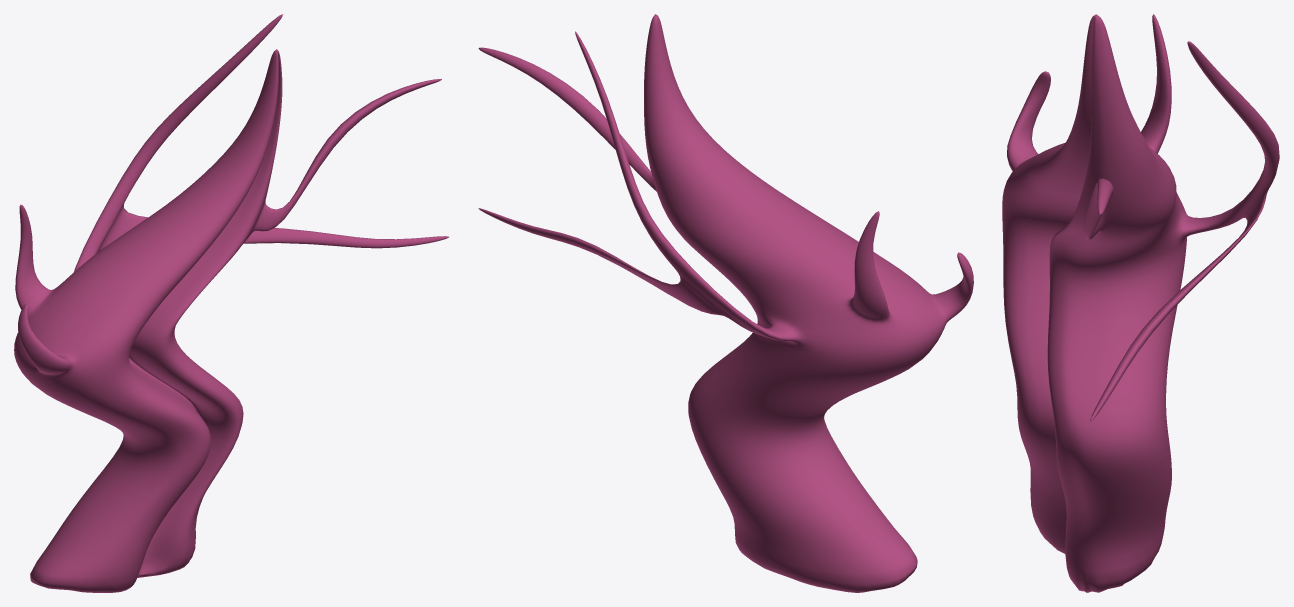
Rendered from compact-v01.glb.
The picture shows the model from 3 angles, left to right: view 1: azimuth 30°, elevation 25°; view 2: azimuth 150°, elevation 25°; view 3: azimuth 270°, elevation 25°; orthographic projection. The views are drawn at different scales.
Visible parts, largest first — view 1: Continuous aged trunk and primary branches; view 2: Continuous aged trunk and primary branches; view 3: Continuous aged trunk and primary branches.
Part boxes in pixels (x1,y1,x2,y2): Continuous aged trunk and primary branches: [14, 14, 448, 592]; Continuous aged trunk and primary branches: [478, 14, 973, 592]; Continuous aged trunk and primary branches: [1002, 14, 1279, 592].
Size of the model in its own units: 1.81 by 1.9 by 0.7405.
